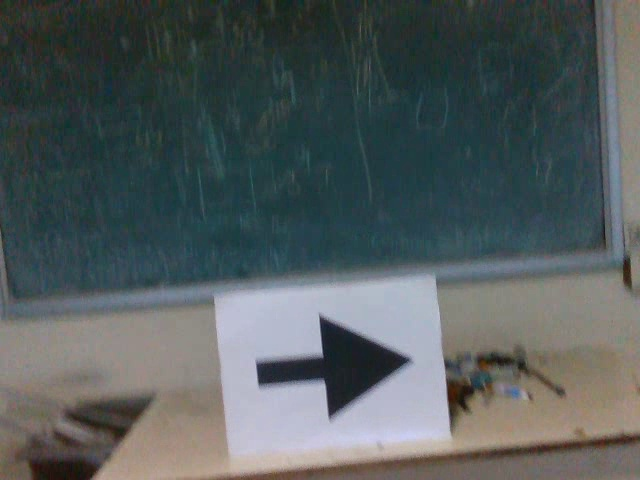Right: (248, 309, 417, 421)
